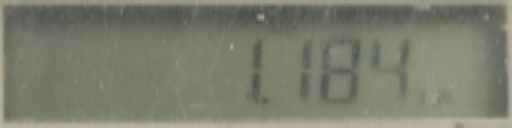1: (293, 25, 316, 109), (246, 32, 264, 105)
4: (364, 35, 414, 105)
8: (315, 32, 365, 108)
d: (257, 93, 274, 111)
